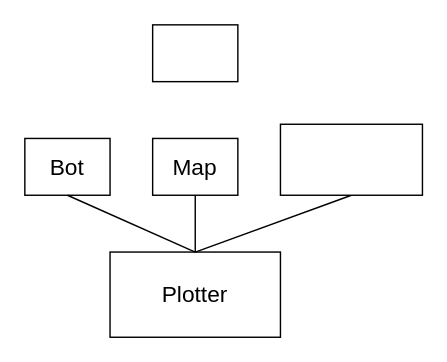
This 447x362 diagram has some shape labels left out. Each missing label, with the centre of its shape:
"include" goes at point 194,52.
"util (Matplotlib)" goes at point 350,159.
